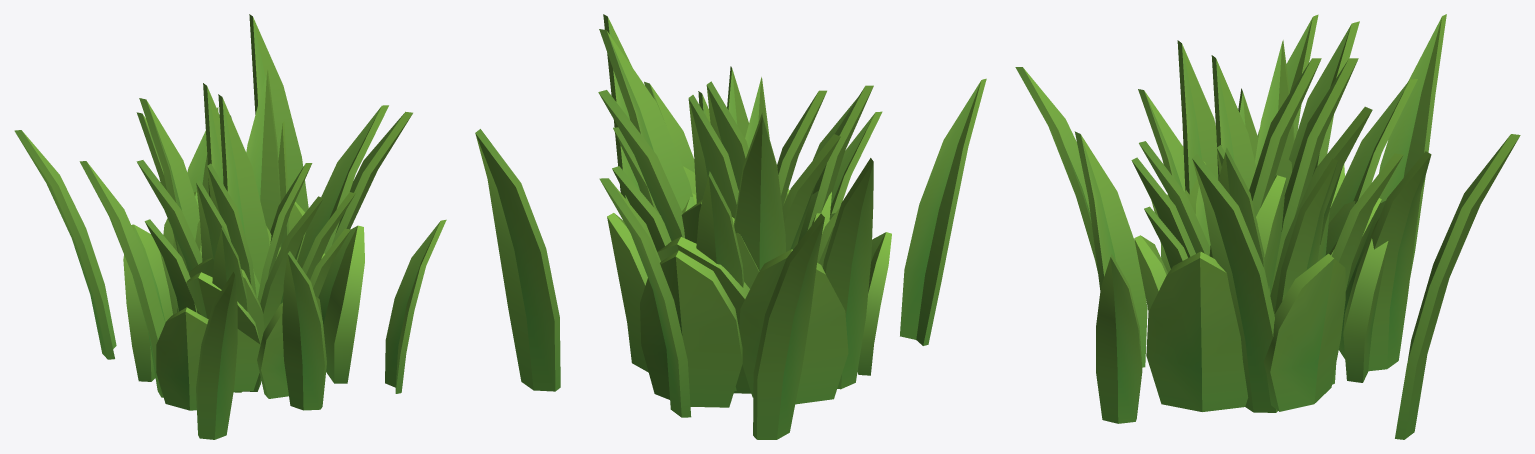
Rendered from HeroGrass.glb.
3 views of the same model, side by side, from view 1: azimuth 30°, elevation 25°; view 2: azimuth 150°, elevation 25°; view 3: azimuth 270°, elevation 25° (orthographic). The views are drawn at different scales.
Parts seen in each view (by area): view 1: Grass_2_D_Color1, Grass_2_C_Color1, Grass_1_C_Color1, Grass_2_A_Color1, Grass_1_B_Color1; view 2: Grass_2_D_Color1, Grass_1_C_Color1, Grass_2_C_Color1, Grass_1_B_Color1, Grass_2_A_Color1; view 3: Grass_2_D_Color1, Grass_1_C_Color1, Grass_2_C_Color1, Grass_2_A_Color1, Grass_1_A_Color1, Grass_1_B_Color1.
Boxes of the visible parts, left/top/right/bottom form: Grass_2_D_Color1: left=14, top=14, right=446, bottom=439; Grass_2_C_Color1: left=136, top=70, right=388, bottom=329; Grass_1_C_Color1: left=123, top=202, right=364, bottom=410; Grass_2_A_Color1: left=218, top=94, right=269, bottom=284; Grass_1_B_Color1: left=173, top=191, right=324, bottom=391; Grass_2_D_Color1: left=475, top=14, right=986, bottom=439; Grass_1_C_Color1: left=607, top=166, right=891, bottom=407; Grass_2_C_Color1: left=598, top=29, right=882, bottom=391; Grass_1_B_Color1: left=657, top=193, right=835, bottom=393; Grass_2_A_Color1: left=706, top=81, right=748, bottom=190; Grass_2_D_Color1: left=1015, top=14, right=1520, bottom=439; Grass_1_C_Color1: left=1134, top=161, right=1388, bottom=411; Grass_2_C_Color1: left=1138, top=40, right=1417, bottom=384; Grass_2_A_Color1: left=1249, top=58, right=1321, bottom=216; Grass_1_A_Color1: left=1256, top=175, right=1286, bottom=294; Grass_1_B_Color1: left=1325, top=198, right=1381, bottom=290.
Size of the model in its own units: 1.1 by 0.9438 by 1.37.
Materials: 1 (1 with a texture image).
